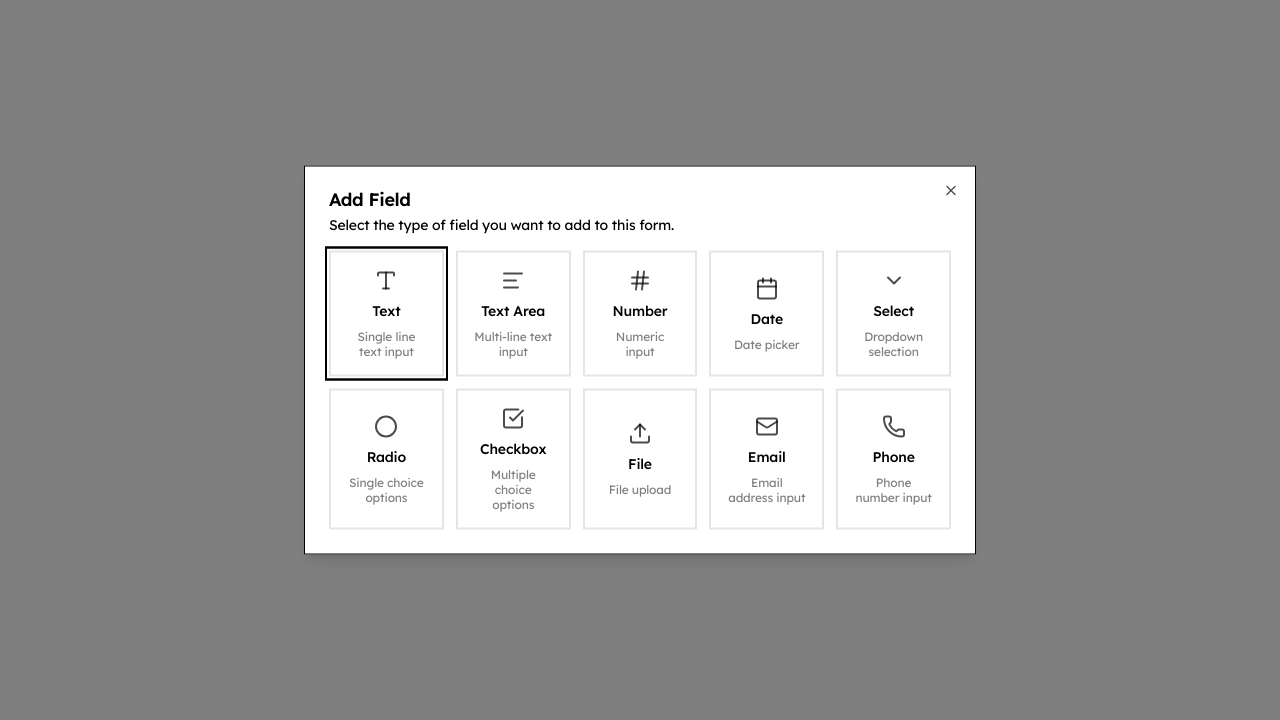
AddFieldDialog › Error Handling › shows error message on creation failure
Step 1. Click the button with aria-label "add text field" → (386, 314), box [329,250,444,376]
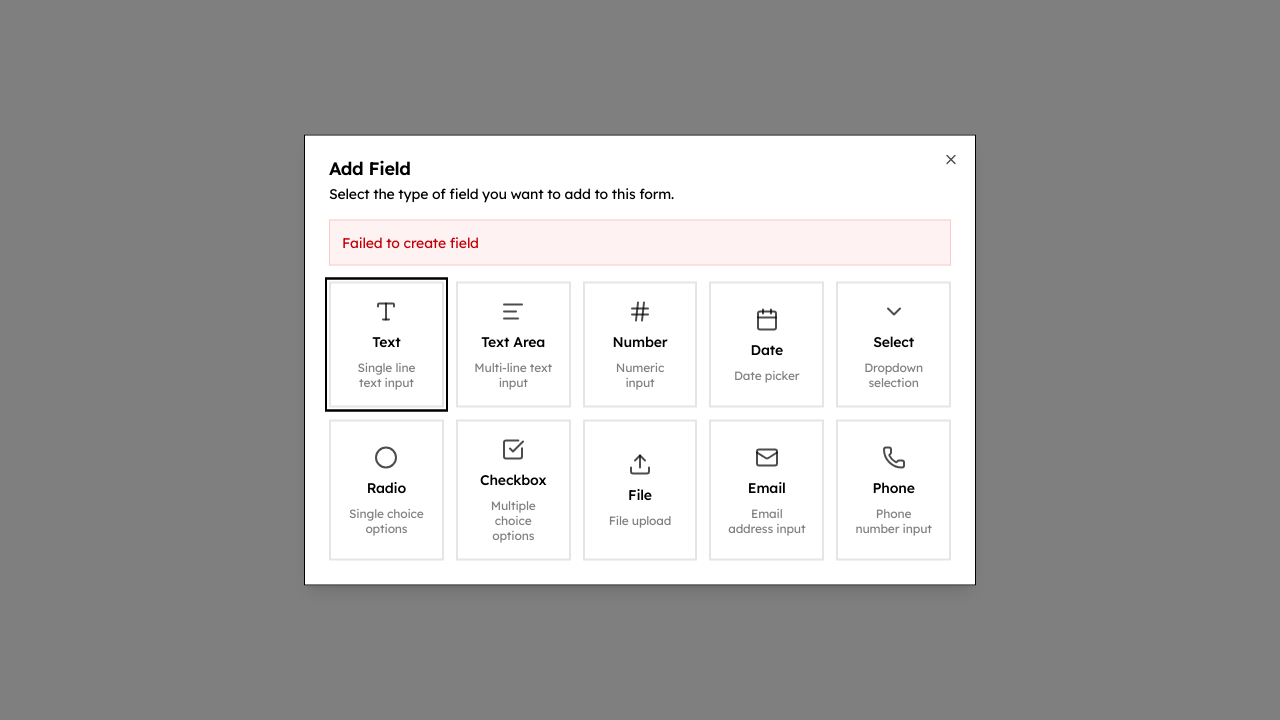
Check: the text "Failed to create field" is shown, box [342,234,479,252]
